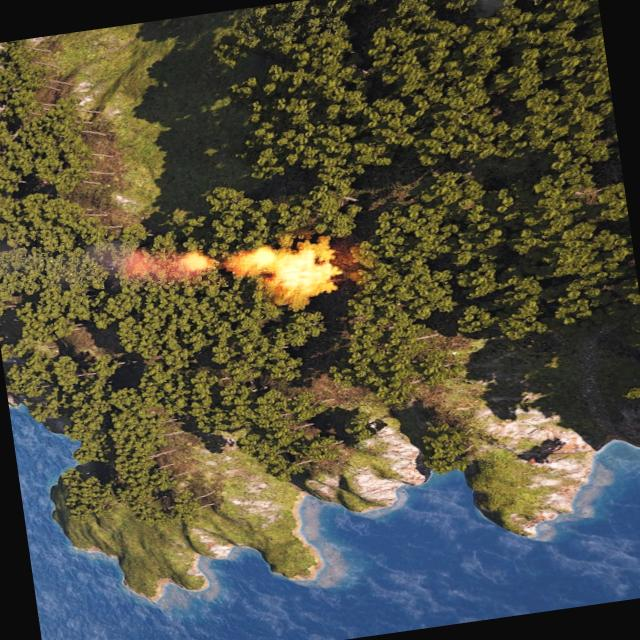fire: (232, 233, 346, 309)
smoke: (82, 229, 222, 299)
